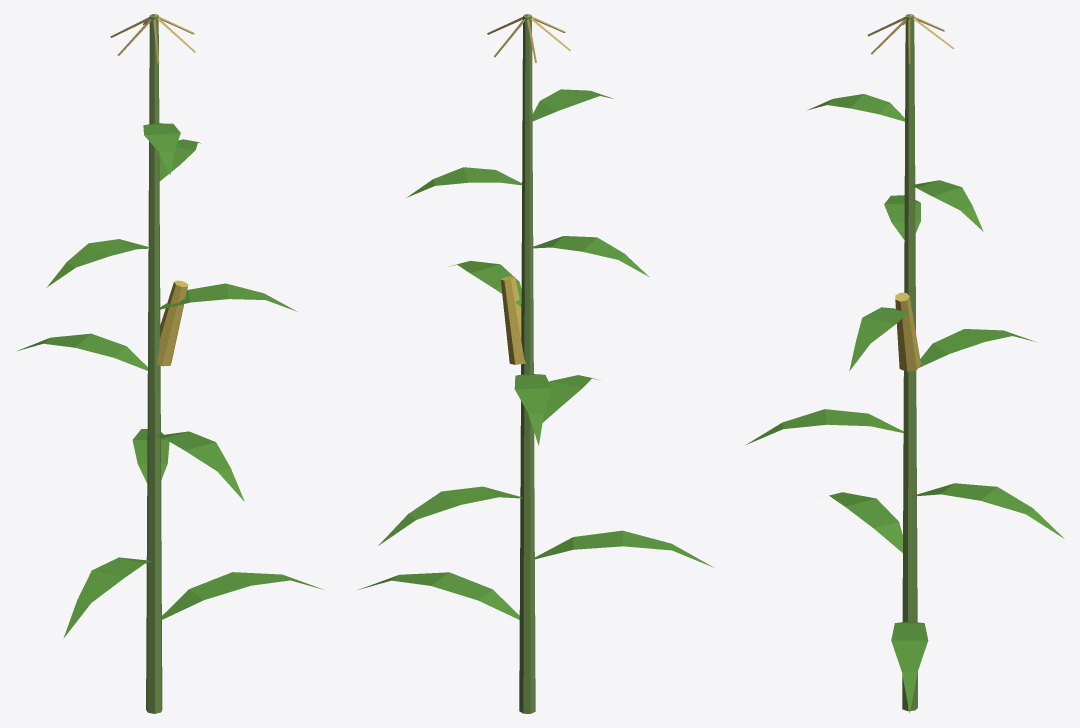
File: corn.glb
3 renders of one model, left to right at view 1: azimuth 30°, elevation 25°; view 2: azimuth 150°, elevation 25°; view 3: azimuth 270°, elevation 25°, orthographic.
Parts seen in each view (by area): view 1: corn; view 2: corn; view 3: corn.
Boxes of the visible parts, bbox=[...] form: corn: bbox=[16, 14, 323, 713]; corn: bbox=[358, 14, 713, 713]; corn: bbox=[746, 14, 1064, 713].
Size of the model in its own units: 0.9393 by 2 by 0.8417.
